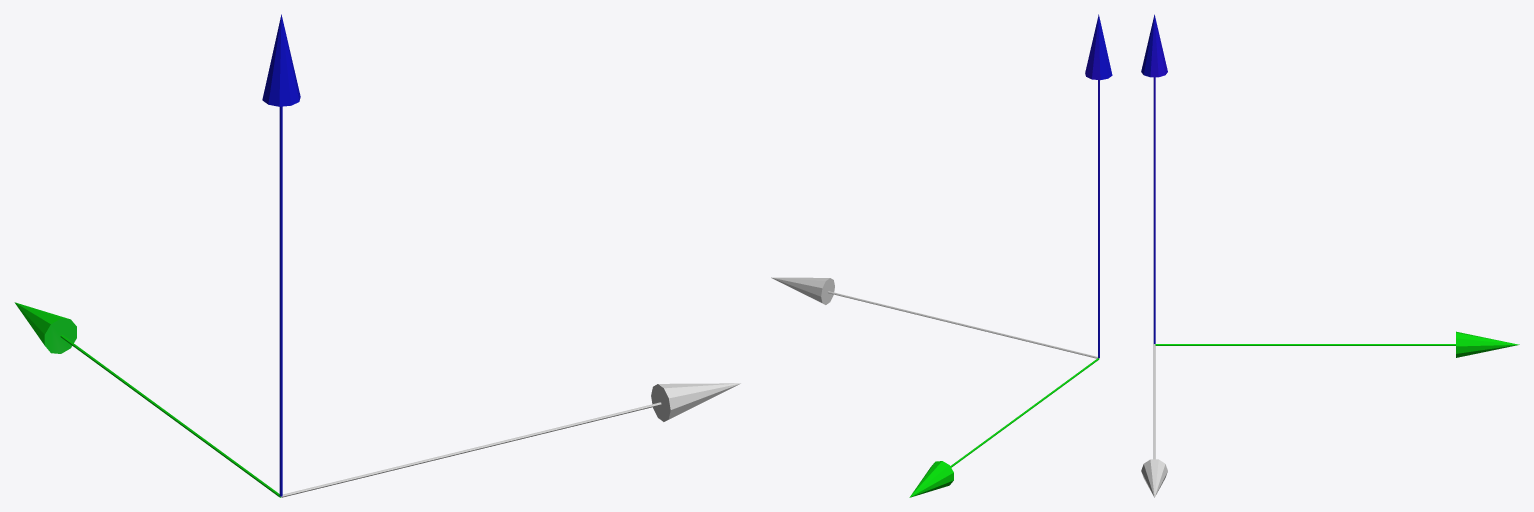
Rendered from manipulator.dae.
3 renders of one model, left to right at view 1: azimuth 30°, elevation 25°; view 2: azimuth 150°, elevation 25°; view 3: azimuth 270°, elevation 25°, orthographic. The views are drawn at different scales.
Parts seen in each view (by area): view 1: ZAxis, XAxis, YAxis; view 2: XAxis, ZAxis, YAxis; view 3: ZAxis, YAxis, XAxis.
Boxes of the visible parts, box(x1,y1,x2,y2) form: ZAxis: box(262, 14, 300, 496); XAxis: box(281, 383, 740, 497); YAxis: box(14, 302, 280, 497); XAxis: box(771, 277, 1097, 358); ZAxis: box(1085, 14, 1112, 358); YAxis: box(909, 358, 1099, 497); ZAxis: box(1141, 14, 1167, 343); YAxis: box(1155, 331, 1519, 357); XAxis: box(1141, 344, 1167, 497).
Bounding box in the file's own units: 2.24 × 2.25 × 2.25.
